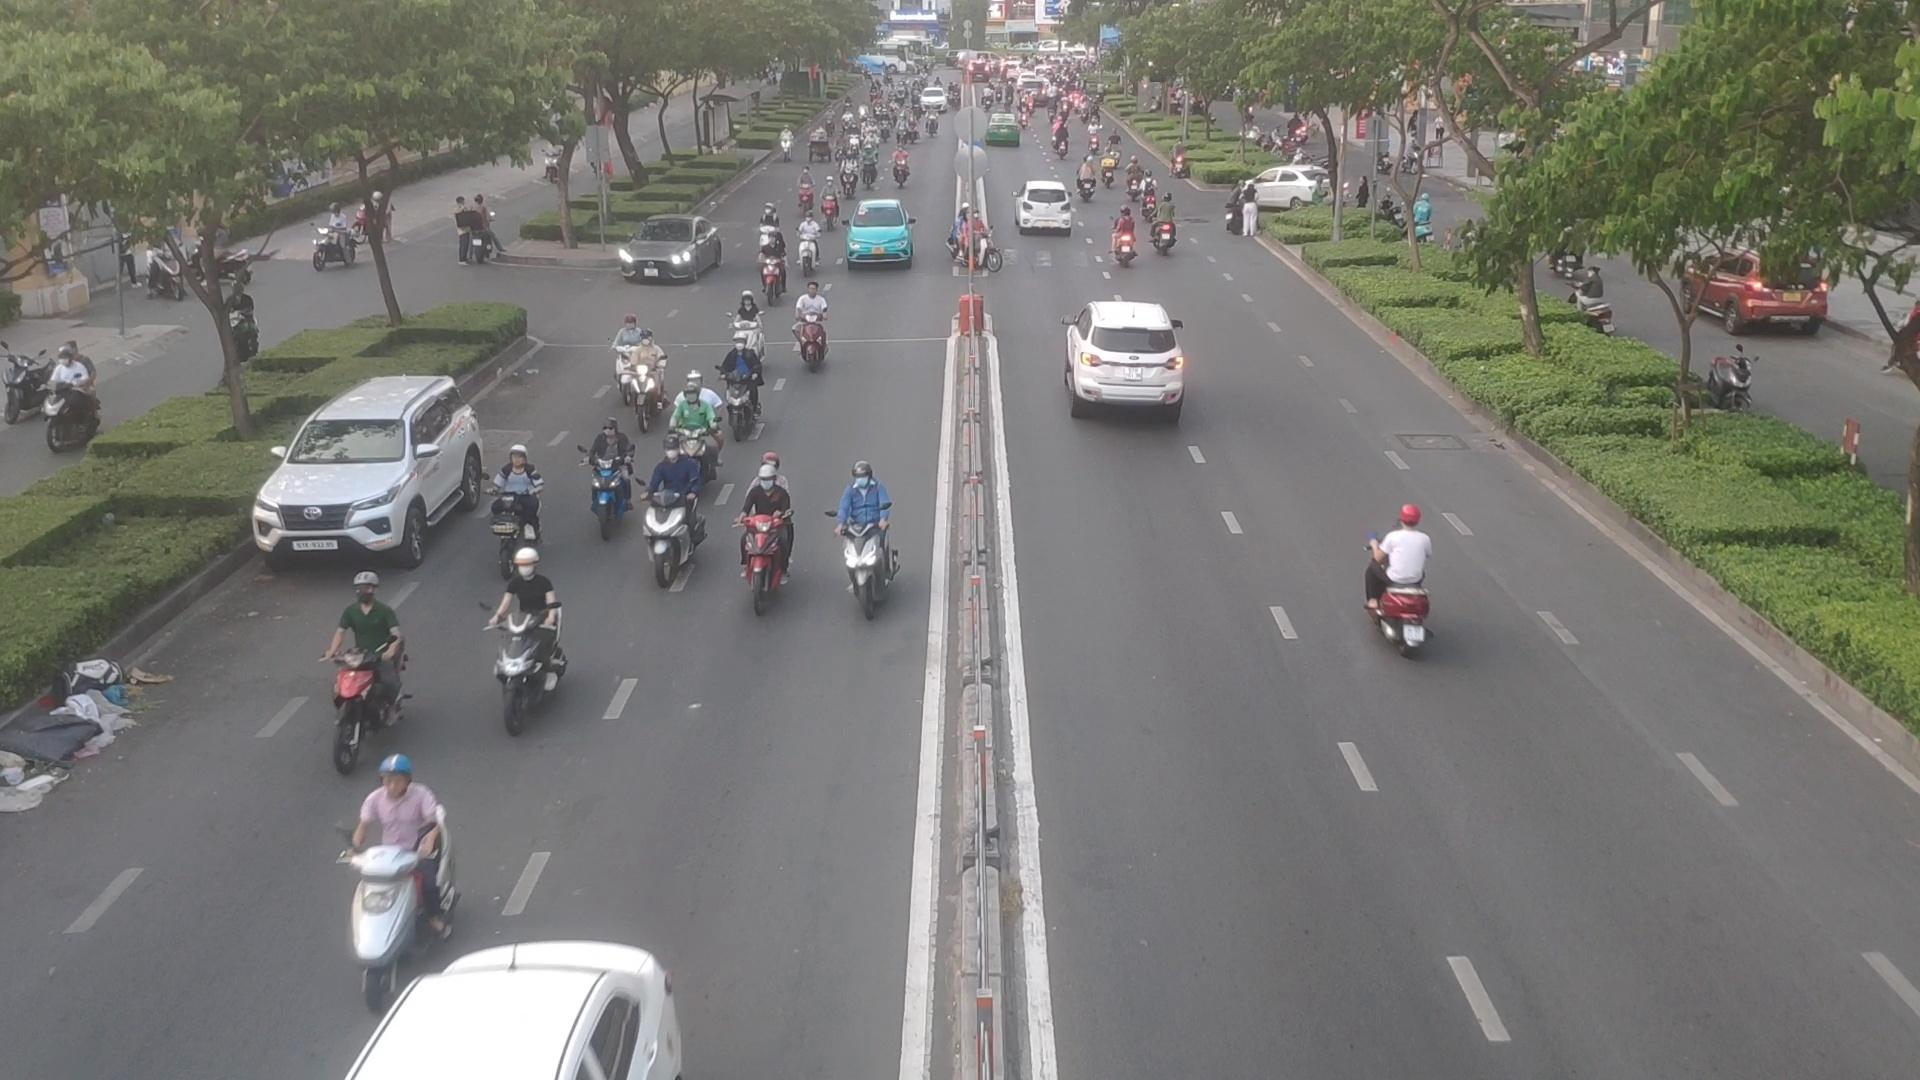car: (253, 371, 495, 566), (1062, 305, 1187, 410), (615, 218, 724, 286), (844, 196, 911, 268), (1015, 182, 1076, 236)
motorbike: (351, 786, 443, 990), (483, 550, 574, 709), (1352, 505, 1433, 662), (331, 591, 417, 740), (835, 463, 909, 626), (651, 438, 713, 592), (741, 462, 798, 600), (495, 454, 551, 558), (787, 291, 851, 382), (675, 378, 731, 463), (625, 323, 673, 417), (583, 433, 625, 531), (607, 311, 649, 404), (723, 349, 761, 427), (1102, 204, 1142, 274), (945, 214, 997, 266), (723, 303, 767, 361), (758, 240, 789, 299), (1153, 199, 1185, 253), (789, 165, 818, 211), (796, 222, 822, 273), (818, 171, 840, 228), (891, 153, 913, 193), (861, 153, 882, 191), (1075, 164, 1097, 199), (760, 200, 773, 253), (837, 153, 855, 191), (1143, 177, 1160, 215)
